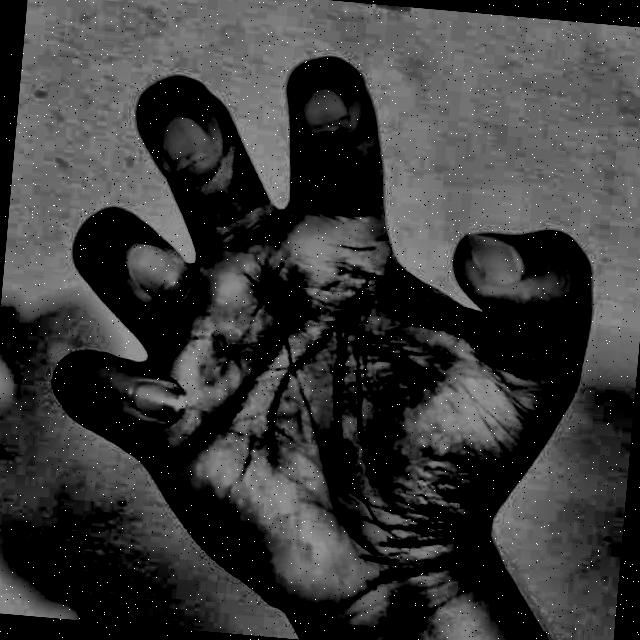Ja: (22, 6, 626, 640)
